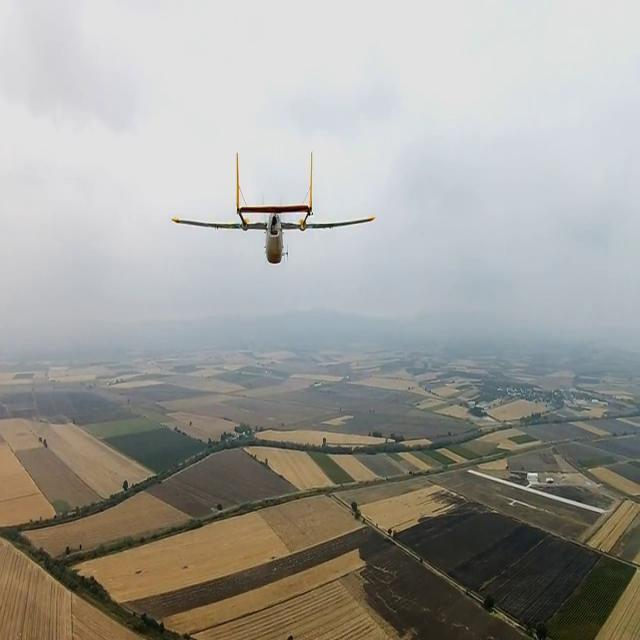iha: (161, 139, 388, 287)
